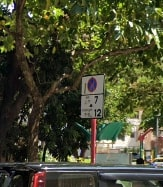Start Of No Stopping: (78, 75, 105, 120)
